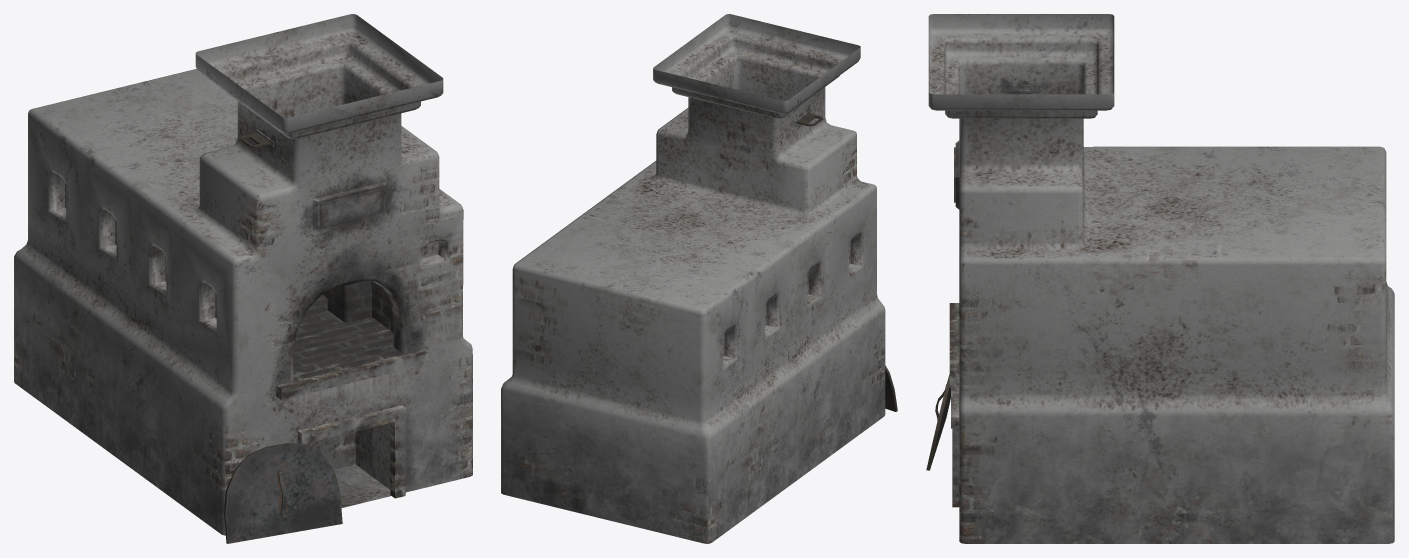
File: old_soviet_stove_pechka.glb
3 renders of one model, left to right at view 1: azimuth 30°, elevation 25°; view 2: azimuth 150°, elevation 25°; view 3: azimuth 270°, elevation 25°, orthographic. The views are drawn at different scales.
Visible parts, largest first — view 1: pechka_low, pripechka_low, zaslonka_low, yuzka_low; view 2: pechka_low; view 3: pechka_low, pripechka_low, zaslonka_low.
Part boxes in pixels (bbox=[...]): pechka_low: bbox=[14, 14, 472, 535]; pripechka_low: bbox=[276, 295, 428, 498]; zaslonka_low: bbox=[224, 443, 342, 543]; yuzka_low: bbox=[312, 181, 386, 231]; pechka_low: bbox=[501, 14, 885, 543]; pechka_low: bbox=[928, 14, 1394, 543]; pripechka_low: bbox=[949, 303, 959, 507]; zaslonka_low: bbox=[926, 374, 950, 470].
Size of the model in its own units: 1.66 by 2.6 by 2.58.
Materials: 1 (1 with a texture image).
